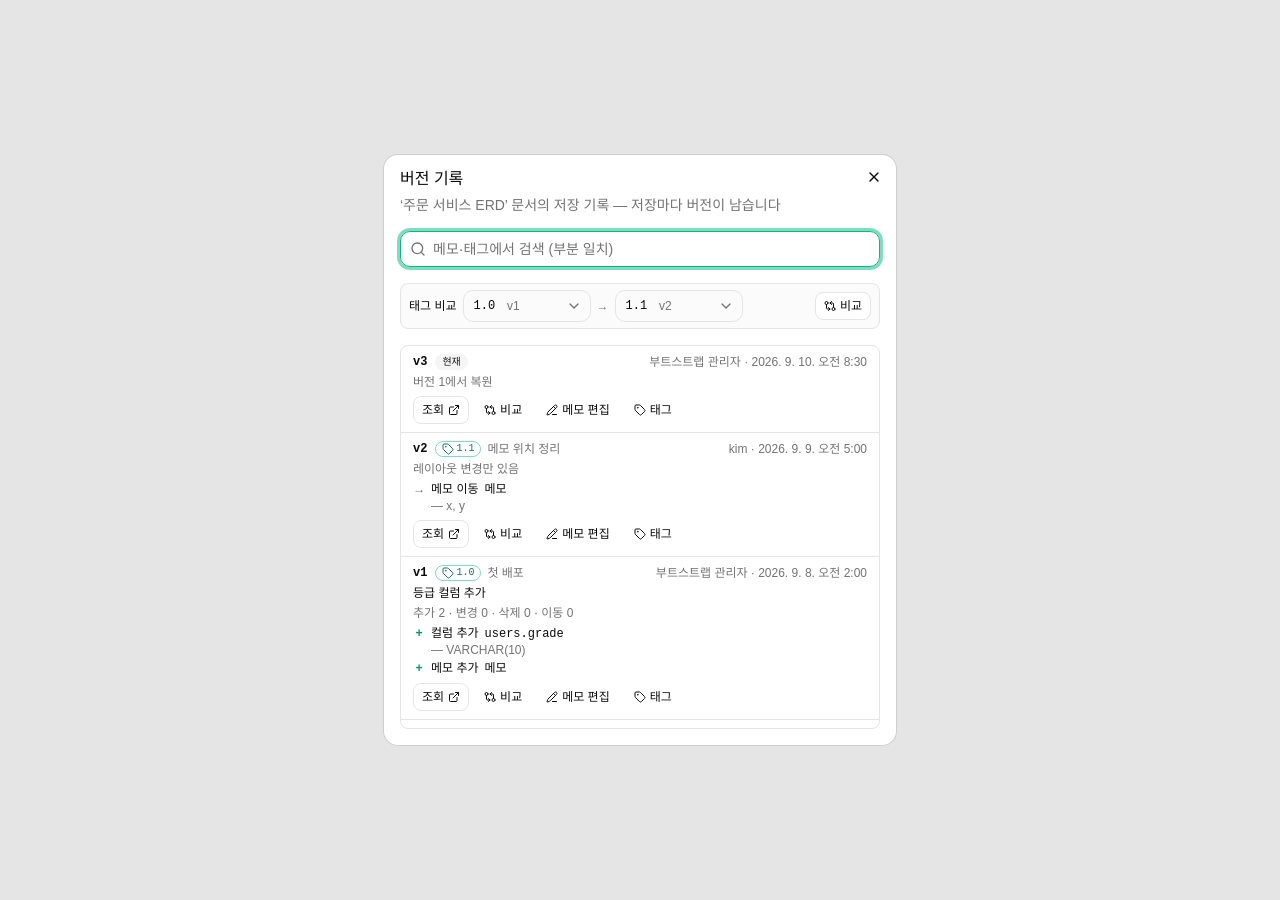
Test case: VersionHistoryDialog — 메모 편집 › 인라인 편집 → PATCH → 목록 갱신 — 빈 문자열은 삭제(null)
// v3은 메모 없음 — 편집으로 메모를 단다
Click the button "메모 편집" below "현재" at (578, 410), box x1=537 y1=396 x2=619 y2=424
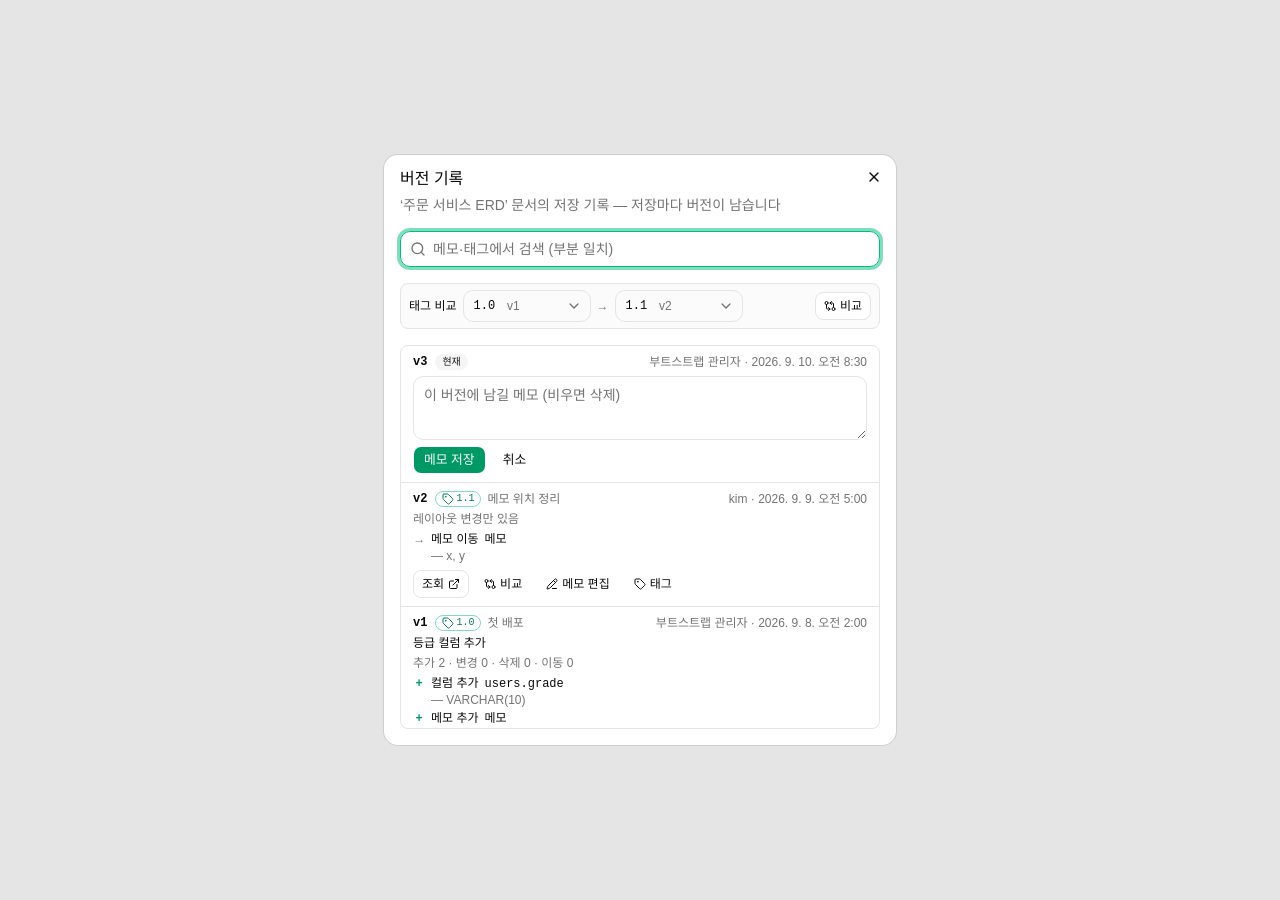
Type "출시 직전 상태" into the text box named "메모 편집" at (640, 408), box x1=413 y1=376 x2=867 y2=440
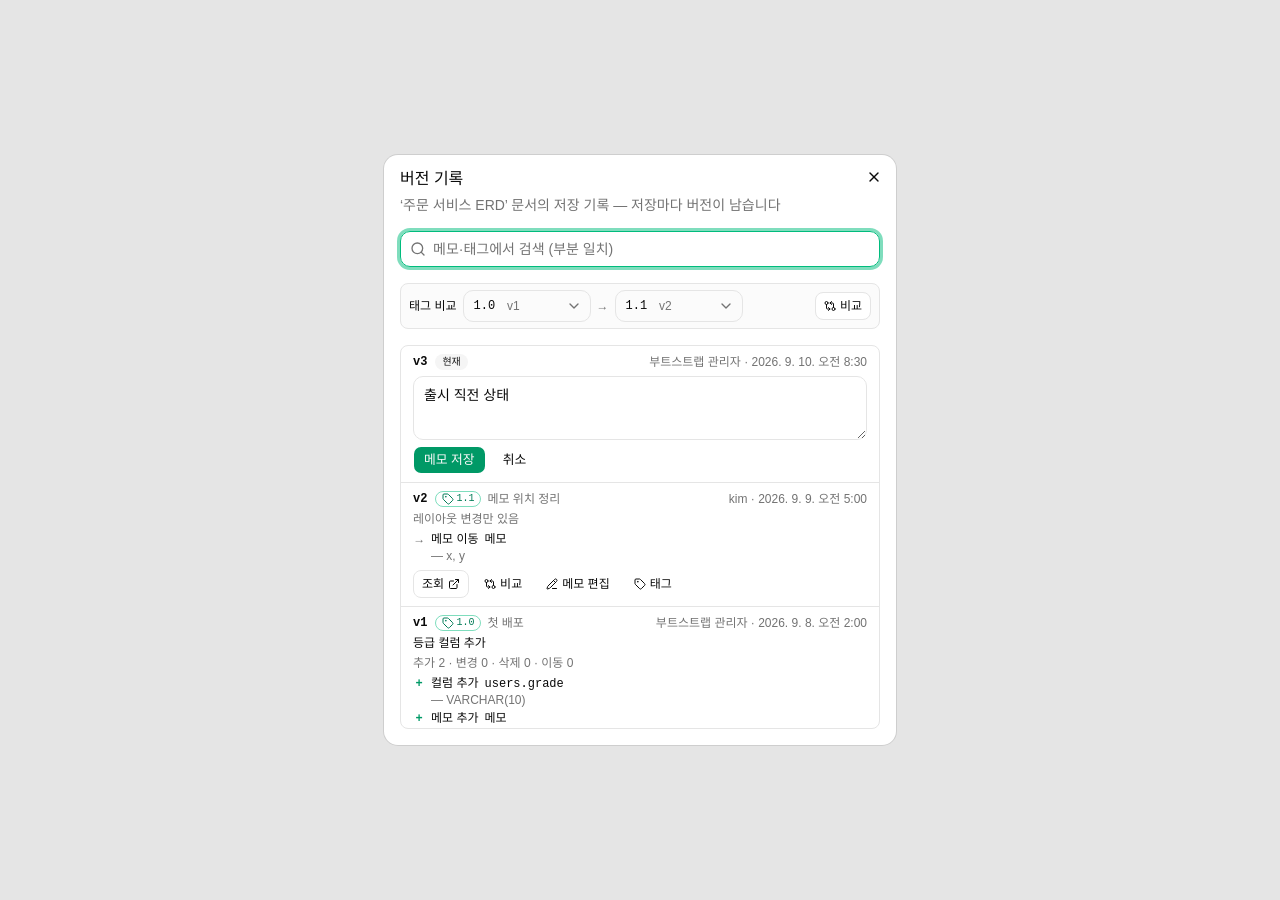
Click the button "메모 저장" at (449, 460), box x1=413 y1=446 x2=486 y2=474
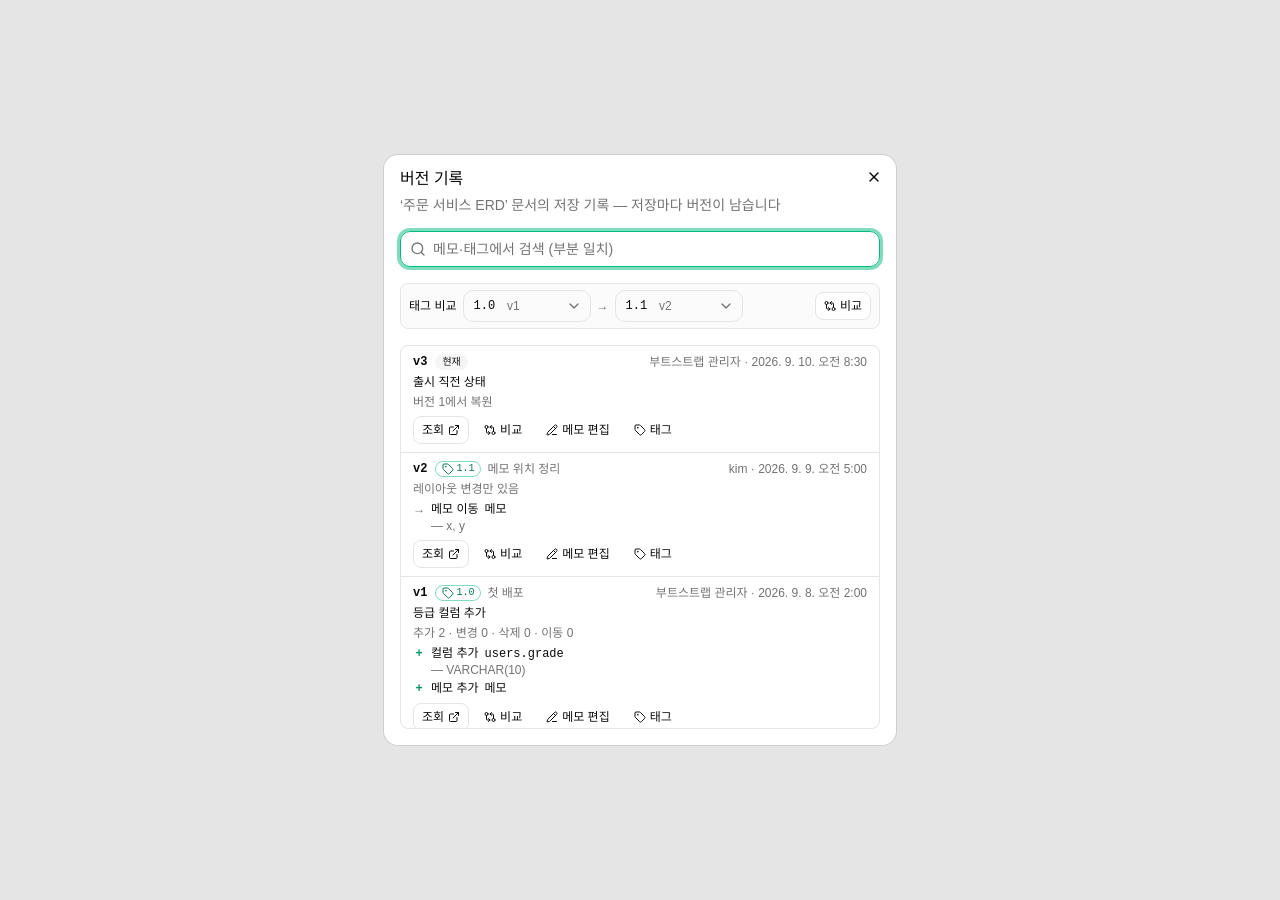
Now the text "출시 직전 상태" is shown, box x1=413 y1=375 x2=486 y2=389
